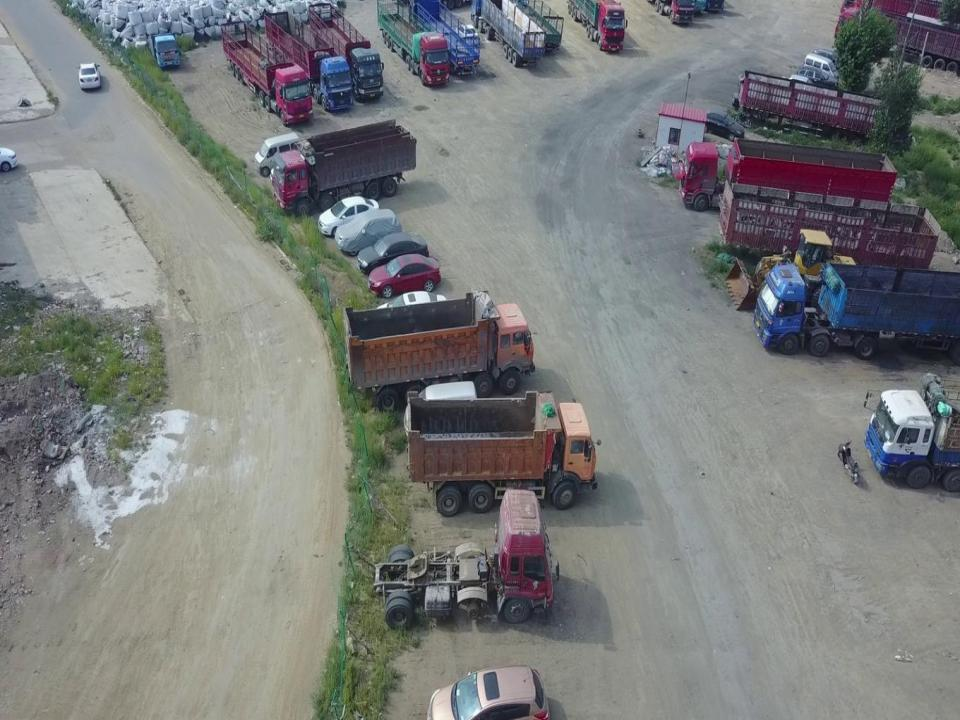car: (429, 665, 549, 720), (368, 252, 441, 296), (356, 232, 428, 276), (335, 209, 401, 255), (370, 292, 448, 330), (319, 196, 378, 236), (788, 75, 819, 103), (797, 67, 828, 95), (812, 48, 843, 75), (78, 62, 101, 91)
truck: (372, 488, 560, 626), (340, 289, 536, 408), (403, 396, 599, 510), (672, 137, 897, 226), (753, 266, 960, 360), (272, 119, 415, 214), (220, 23, 313, 125), (264, 11, 354, 112), (827, 8, 960, 72), (305, 3, 385, 102), (376, 0, 451, 87), (469, 0, 545, 68), (409, 0, 479, 73), (493, 0, 563, 51), (567, 0, 627, 55)
van: (256, 132, 300, 178), (805, 54, 839, 90)
